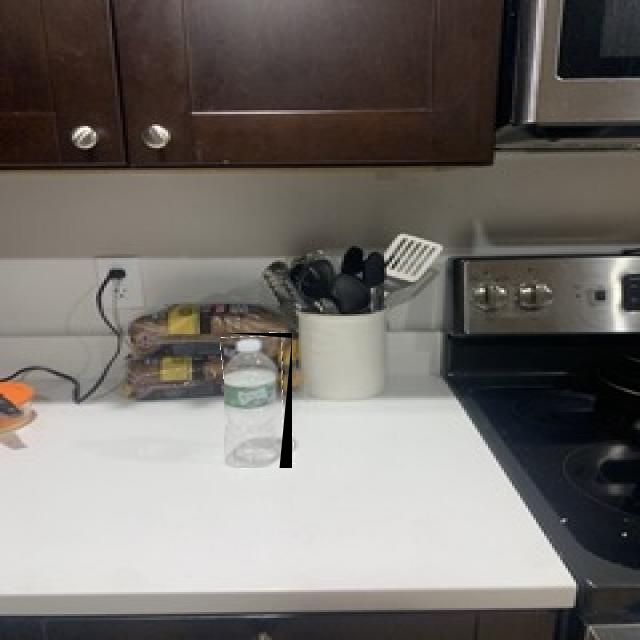water_bottle: (224, 333, 292, 468)
